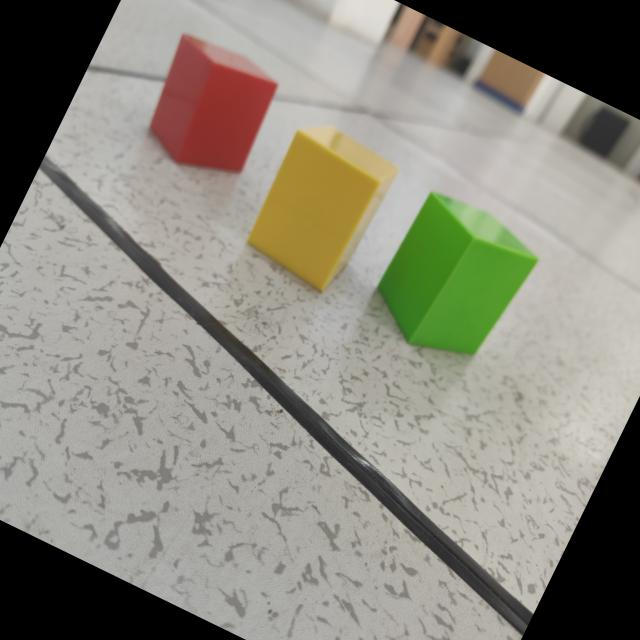green: (375, 191, 538, 358)
red: (147, 33, 278, 175)
yellow: (245, 127, 395, 292)
